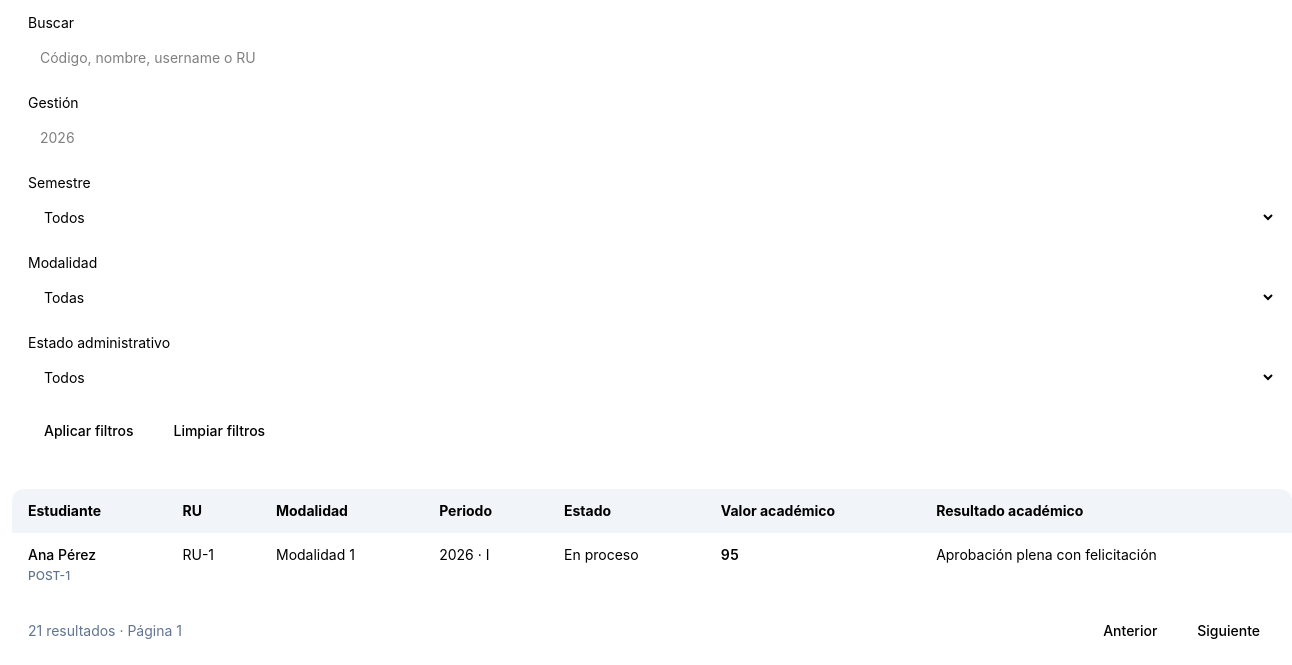
Scenario: ResultadosAcademicosPage › pagina en servidor usando next y count
(page scrolled)
Expected: the text "21 resultados · Página 1" is shown, [28, 621, 182, 641]
Click the button "Siguiente" at (1229, 631), box [1181, 613, 1276, 649]
(page scrolled)
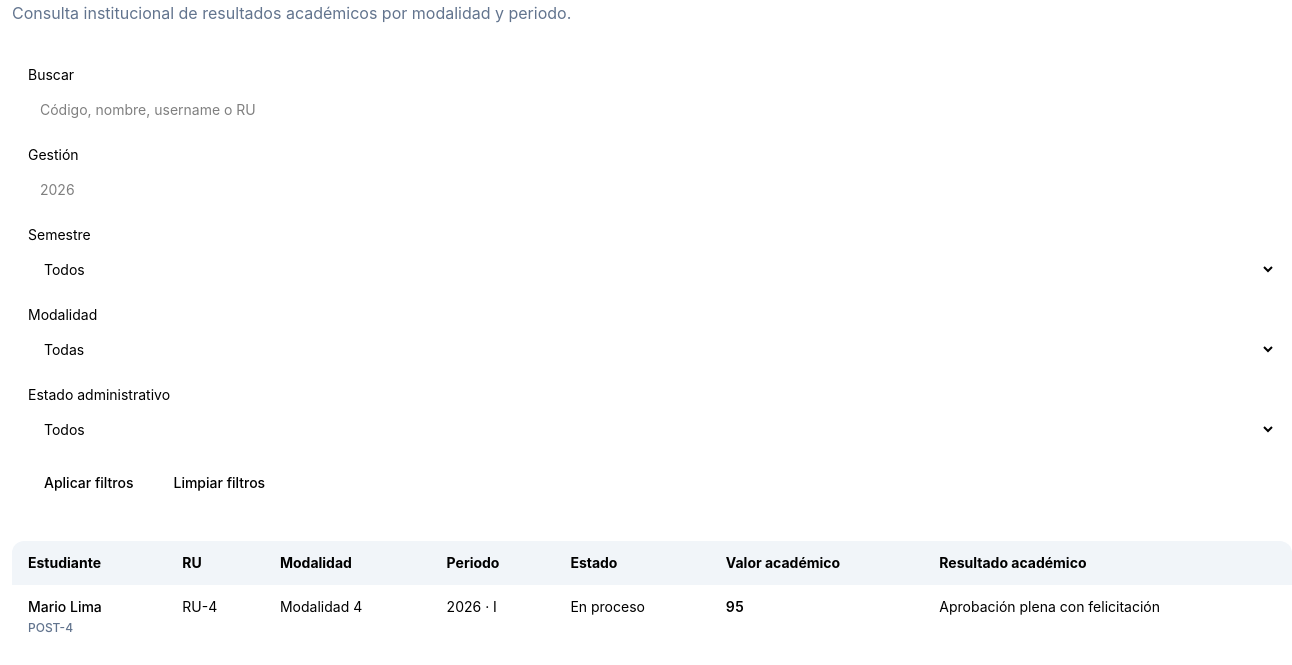
Expected: the text "Mario Lima" is shown, [28, 598, 102, 615]
